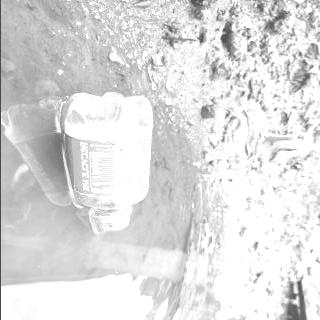bottle: (56, 88, 156, 234)
